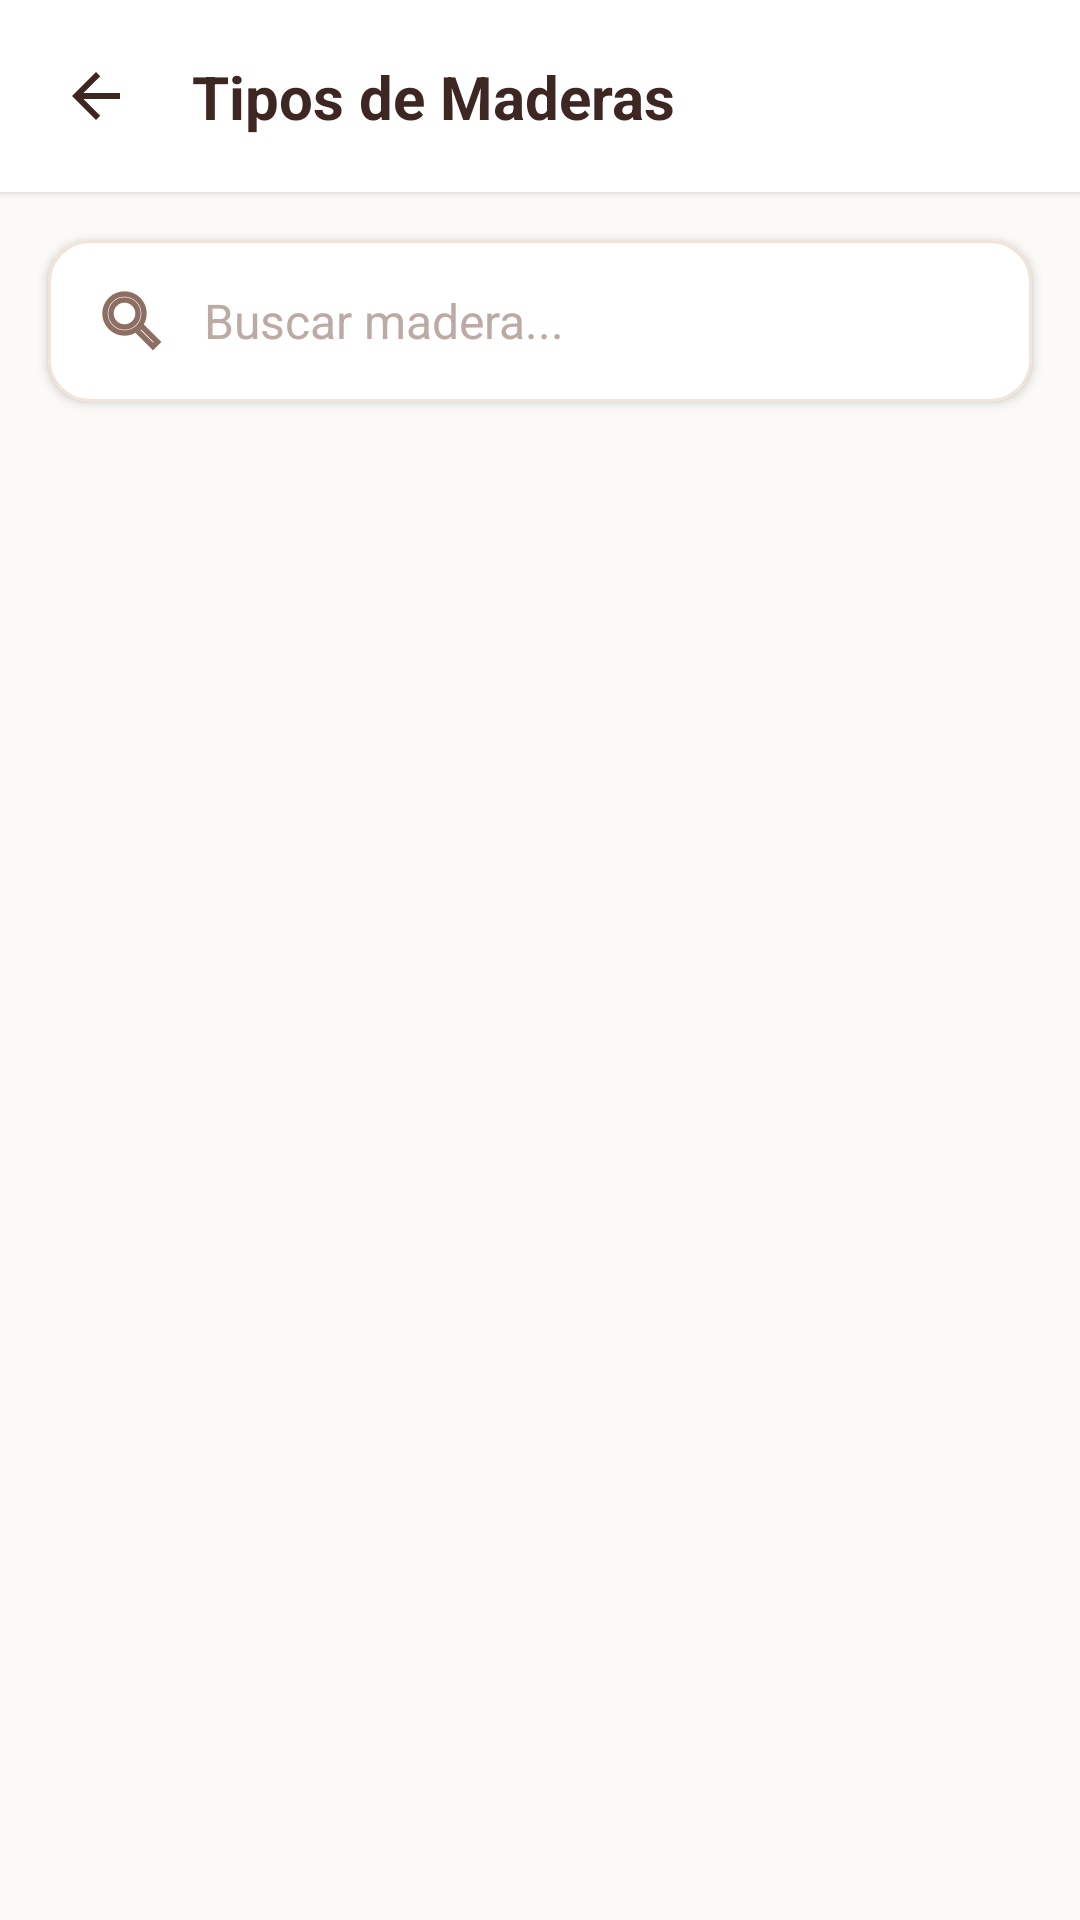

Named icons in this screenshot (1080 x 1920) and their bounding boxes, (x1, y1, x2, y2):
Regresar: (72, 72, 120, 120)
